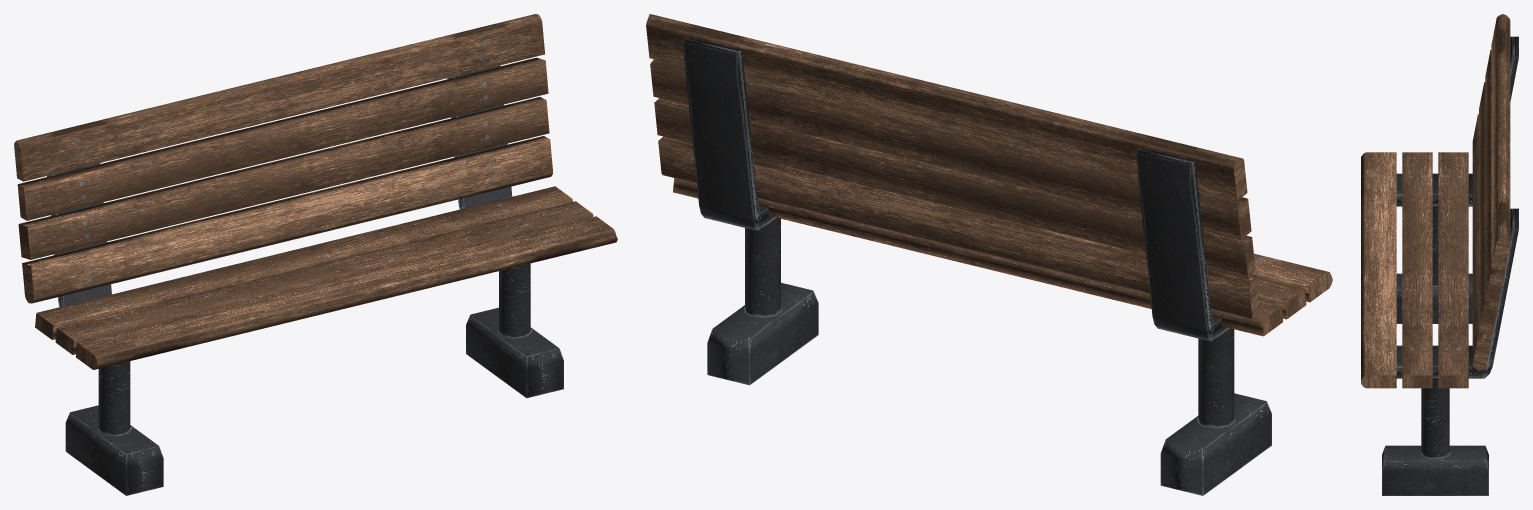
Rendered from BenchSimple02.fbx.
3 renders of one model, left to right at view 1: azimuth 30°, elevation 25°; view 2: azimuth 150°, elevation 25°; view 3: azimuth 270°, elevation 25°, orthographic. The views are drawn at different scales.
Parts seen in each view (by area): view 1: geo_simplebench02; view 2: geo_simplebench02; view 3: geo_simplebench02.
Part boxes in pixels (box(x1,y1,x2,y2)): geo_simplebench02: box(14, 14, 617, 495); geo_simplebench02: box(646, 14, 1332, 495); geo_simplebench02: box(1361, 14, 1518, 495).
Bounding box in the file's own units: 192 × 110 × 56.98.
Materials: 1 (1 with a texture image).
